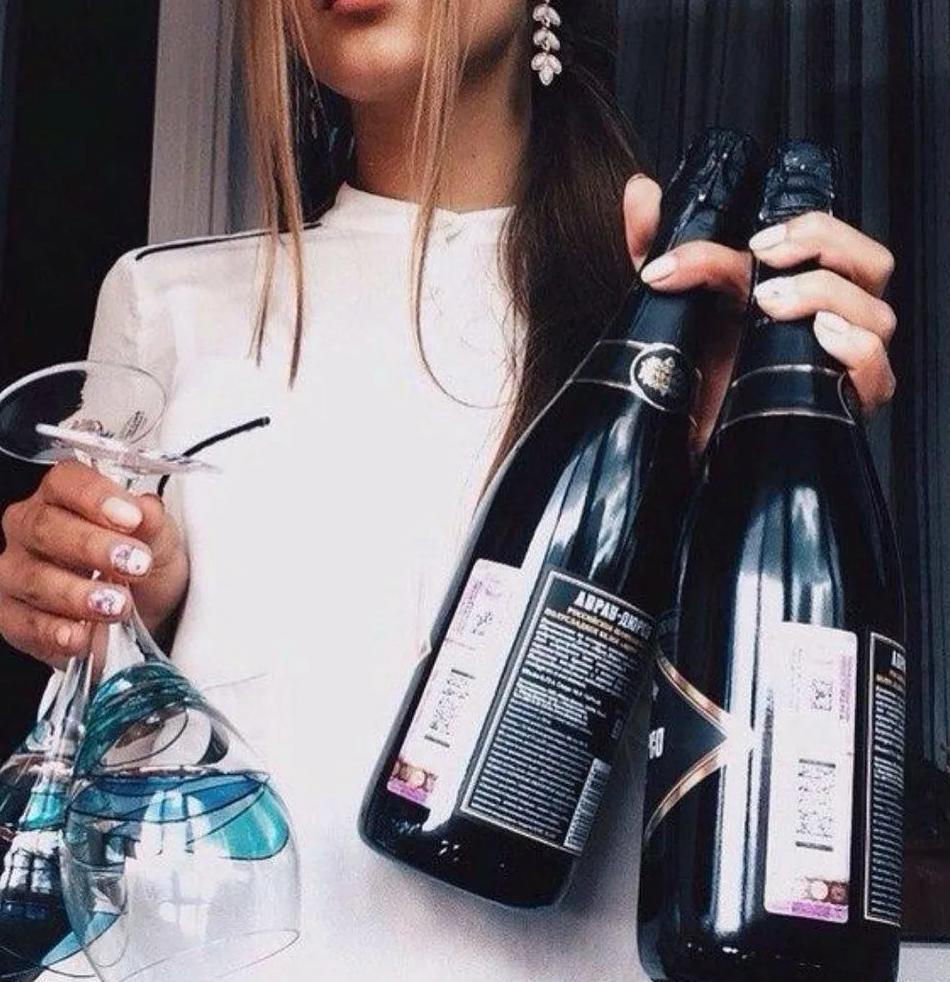wine bottle: (359, 122, 774, 918), (635, 296, 905, 982)
wine label: (451, 563, 656, 857), (639, 641, 761, 854), (863, 629, 903, 930)
